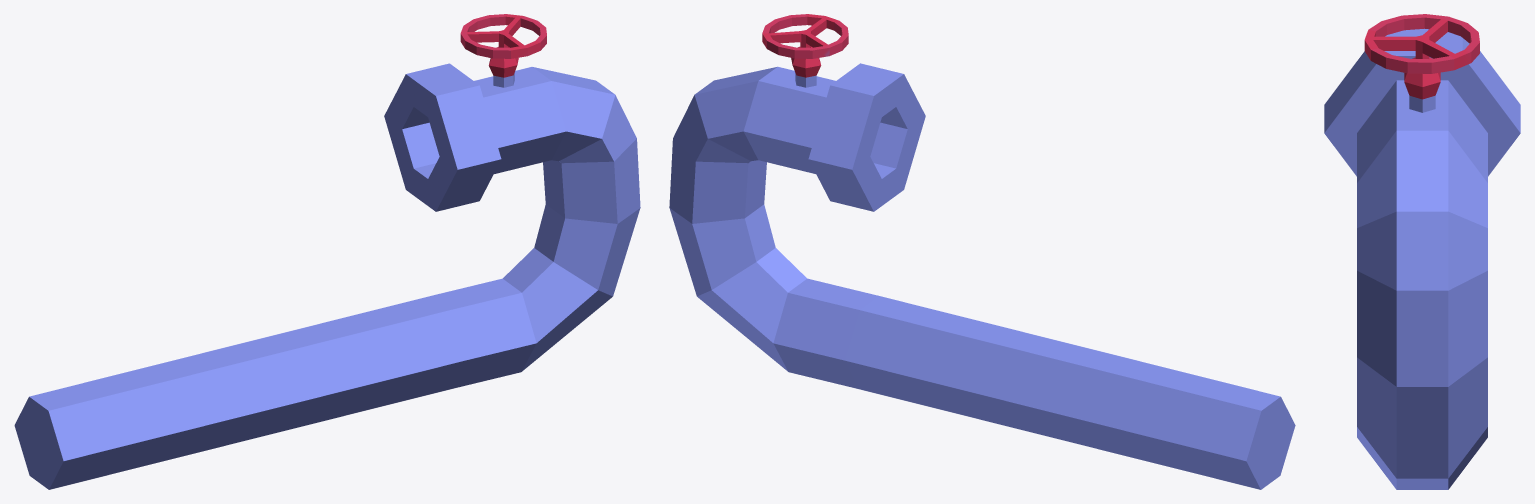
The model's file is UTurnTube.fbx.
3 renders of one model, left to right at view 1: azimuth 30°, elevation 25°; view 2: azimuth 150°, elevation 25°; view 3: azimuth 270°, elevation 25°, orthographic. The views are drawn at different scales.
Visible parts, largest first — view 1: Cube; view 2: Cube; view 3: Cube.
Part boxes in pixels (x1,y1,x2,y2): Cube: (14,14,640,489); Cube: (669,14,1295,489); Cube: (1324,14,1520,489).
Size of the model in its own units: 1070 by 582 by 230.
Materials: 1 (1 with a texture image).
